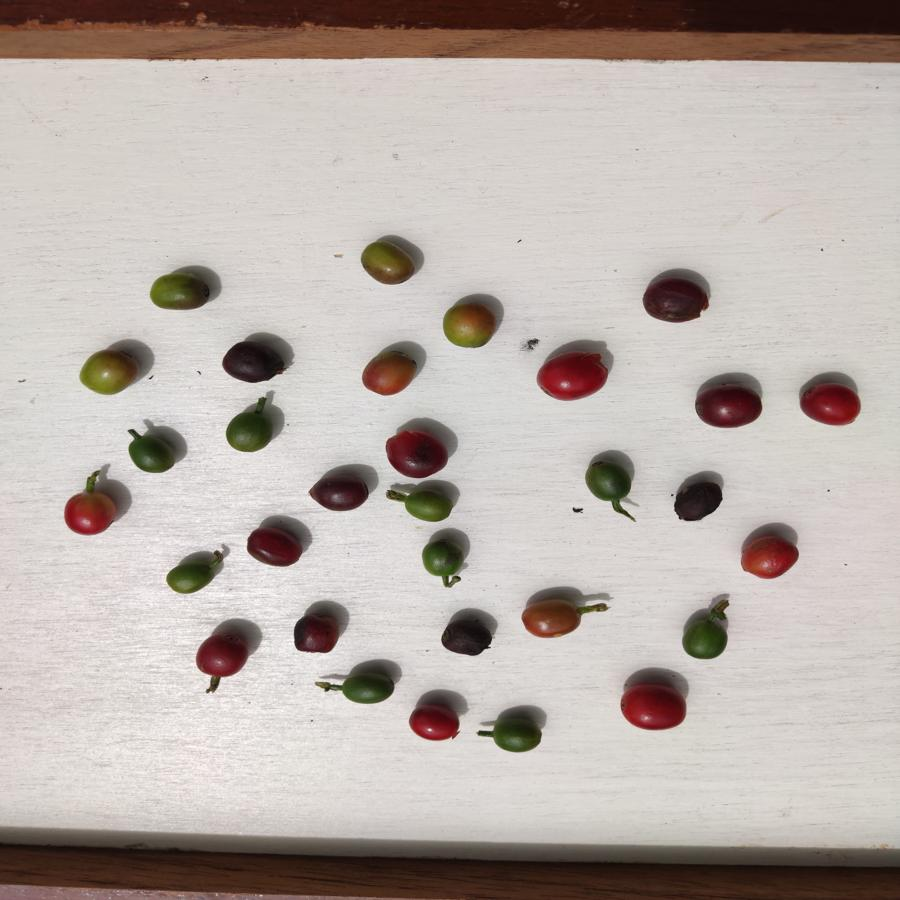Inmaduro: (582, 458, 635, 504), (340, 668, 396, 711), (225, 411, 277, 457), (489, 715, 545, 754), (162, 561, 219, 599), (127, 431, 177, 474), (678, 619, 730, 660), (419, 542, 468, 581), (399, 492, 458, 524)
Maduro: (535, 351, 612, 402), (616, 682, 690, 734), (738, 530, 804, 582), (801, 381, 865, 431)
Pinton: (76, 351, 142, 396), (441, 301, 499, 352), (357, 236, 416, 284), (149, 271, 212, 313), (361, 350, 418, 396), (520, 598, 582, 640)
Sobremaduro: (639, 277, 714, 324), (382, 430, 452, 479), (694, 383, 765, 429), (220, 339, 289, 386), (241, 523, 307, 569), (60, 491, 122, 539), (405, 701, 465, 750), (193, 633, 252, 681), (308, 472, 373, 512), (672, 478, 726, 523), (438, 617, 493, 661), (291, 614, 341, 656)
